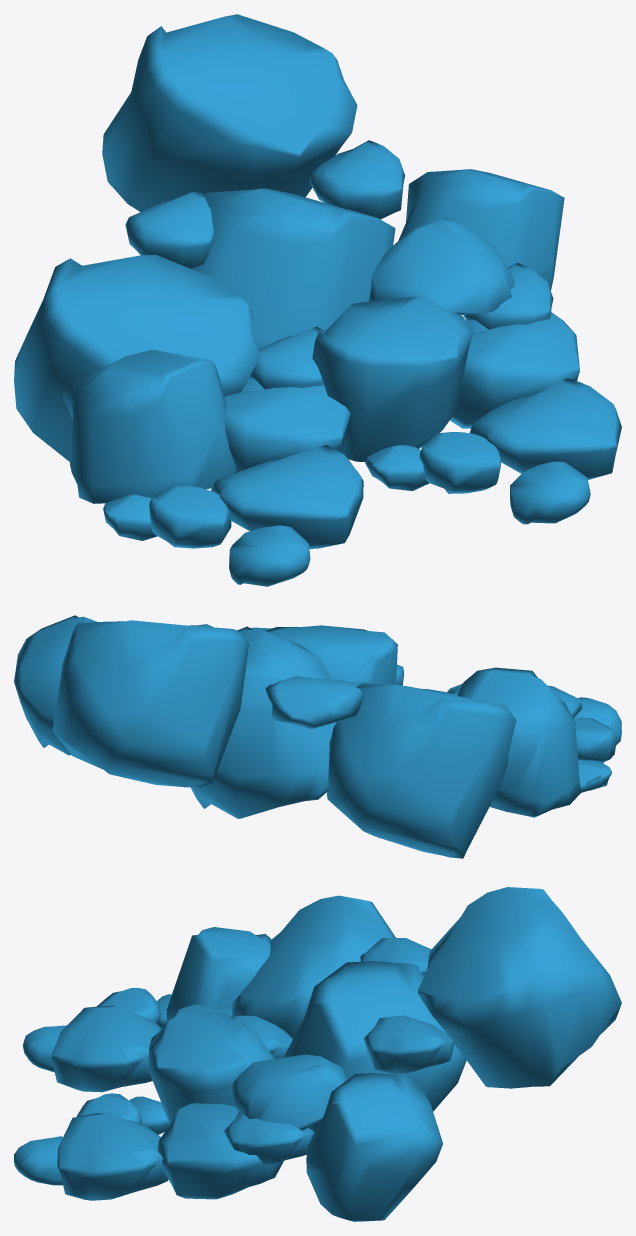
Rendered from Scree_01_Lod1.fbx.
3 views of the same model, one above another, from view 1: azimuth 30°, elevation 25°; view 2: azimuth 150°, elevation 25°; view 3: azimuth 270°, elevation 25° (orthographic). The views are drawn at different scales.
Parts seen in each view (by area): view 1: Scree_01_Lod1; view 2: Scree_01_Lod1; view 3: Scree_01_Lod1.
Part boxes in pixels (left/top/right/bottom): Scree_01_Lod1: left=14, top=14, right=621, bottom=586; Scree_01_Lod1: left=14, top=615, right=621, bottom=858; Scree_01_Lod1: left=14, top=887, right=621, bottom=1221.
Bounding box in the file's own units: 2048 × 1065 × 2247.
